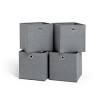cube: (55, 20, 89, 54), (20, 21, 54, 53), (49, 52, 84, 83), (20, 49, 50, 82)
